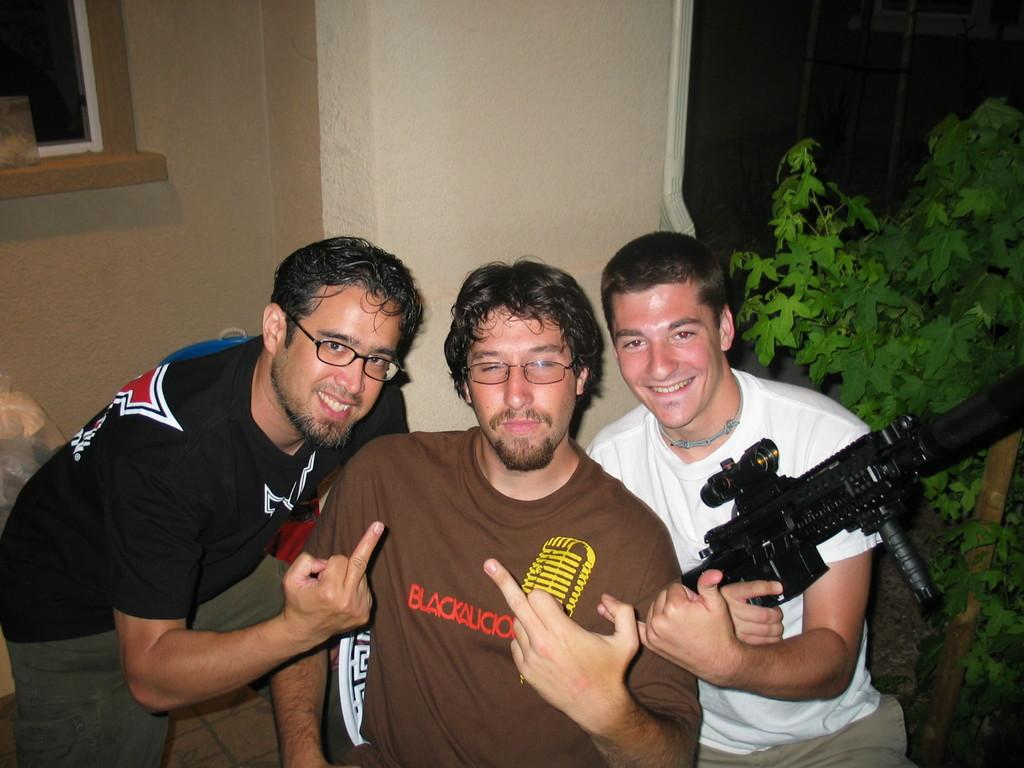Rifle: (612, 420, 1005, 634)
